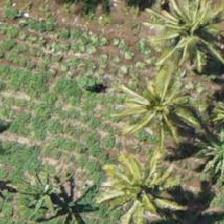coconut_tree: (120, 63, 210, 153), (106, 143, 196, 223), (129, 0, 219, 78), (26, 155, 116, 223)
